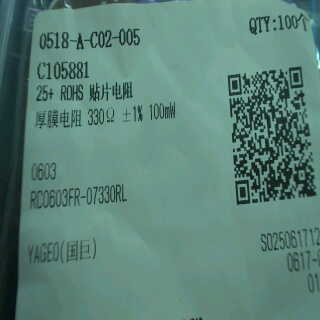330R: (81, 104, 118, 131)
